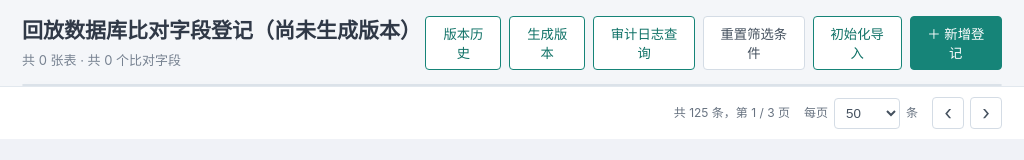
Test case: ReplayDatabaseComparisonPage › requests server pages and resets the offset when page size changes
expect the text with test id "page-summary" shows "第 1 / 3 页": met, box [674, 105, 790, 120]
Click the button with test id "next-page" at [986, 113], box [970, 97, 1002, 129]
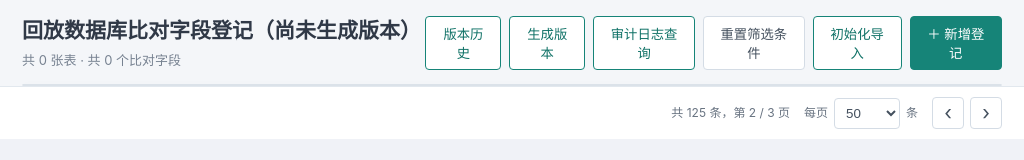
Select "100" in the dropdown with test id "page-size" at [867, 113], box [834, 98, 900, 128]
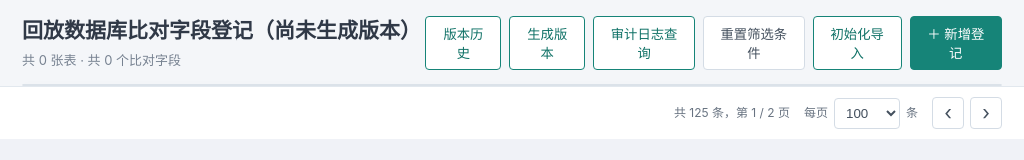
expect the text with test id "page-summary" shows "第 1 / 2 页": met, box [674, 105, 790, 120]
